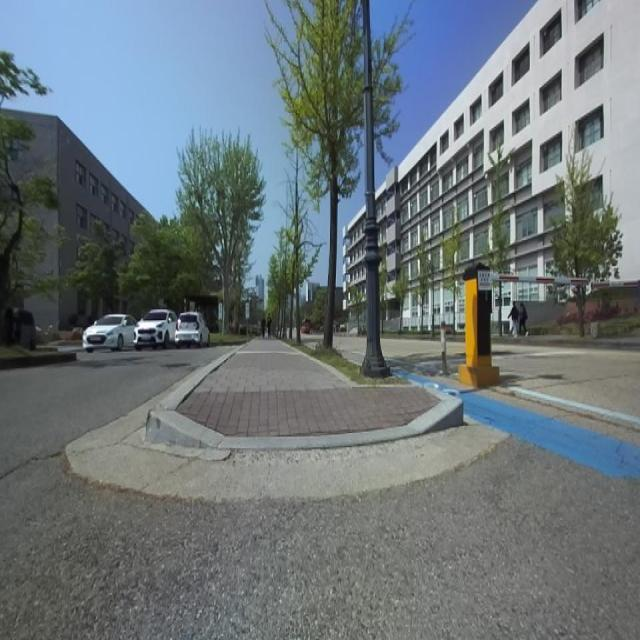sidewalk: (150, 356, 464, 451), (178, 340, 439, 436)
